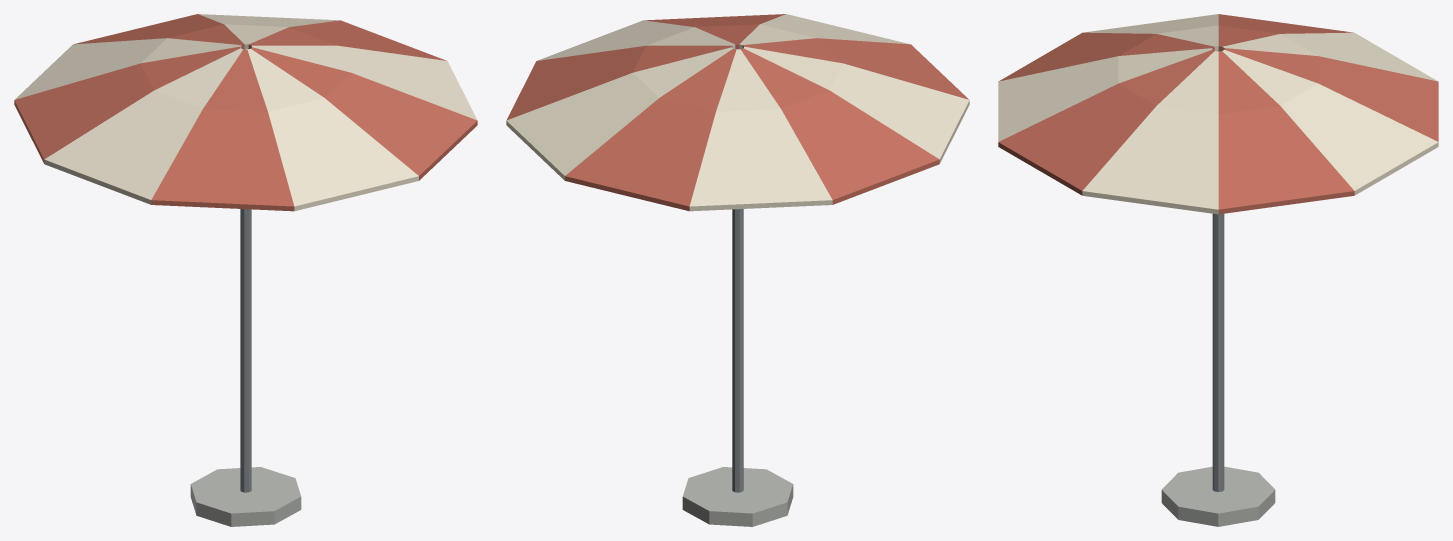
Rendered from StreetUmbrella.glb.
3 views of the same model, side by side, from view 1: azimuth 30°, elevation 25°; view 2: azimuth 150°, elevation 25°; view 3: azimuth 270°, elevation 25° (orthographic).
Visible parts, largest first — view 1: ST_StreetUmbrella_ST_red.001, ST_StreetUmbrella_ST_cream.001, ST_Umbrella_Base.001, ST_StreetUmbrella_PBK_Indochine_metal.001; view 2: ST_StreetUmbrella_ST_cream.001, ST_StreetUmbrella_ST_red.001, ST_Umbrella_Base.001, ST_StreetUmbrella_PBK_Indochine_metal.001; view 3: ST_StreetUmbrella_ST_cream.001, ST_StreetUmbrella_ST_red.001, ST_Umbrella_Base.001, ST_StreetUmbrella_PBK_Indochine_metal.001.
Part boxes in pixels (left/top/right/bottom): ST_StreetUmbrella_ST_red.001: left=14, top=14, right=477, bottom=211; ST_StreetUmbrella_ST_cream.001: left=15, top=14, right=477, bottom=211; ST_Umbrella_Base.001: left=190, top=467, right=301, bottom=526; ST_StreetUmbrella_PBK_Indochine_metal.001: left=240, top=48, right=251, bottom=492; ST_StreetUmbrella_ST_cream.001: left=506, top=14, right=969, bottom=211; ST_StreetUmbrella_ST_red.001: left=506, top=14, right=968, bottom=211; ST_Umbrella_Base.001: left=682, top=467, right=793, bottom=526; ST_StreetUmbrella_PBK_Indochine_metal.001: left=732, top=48, right=743, bottom=492; ST_StreetUmbrella_ST_cream.001: left=998, top=14, right=1438, bottom=214; ST_StreetUmbrella_ST_red.001: left=998, top=14, right=1438, bottom=214; ST_Umbrella_Base.001: left=1161, top=466, right=1275, bottom=526; ST_StreetUmbrella_PBK_Indochine_metal.001: left=1212, top=50, right=1224, bottom=491.
Bounding box in the file's own units: 2.2 × 2.38 × 2.09.
